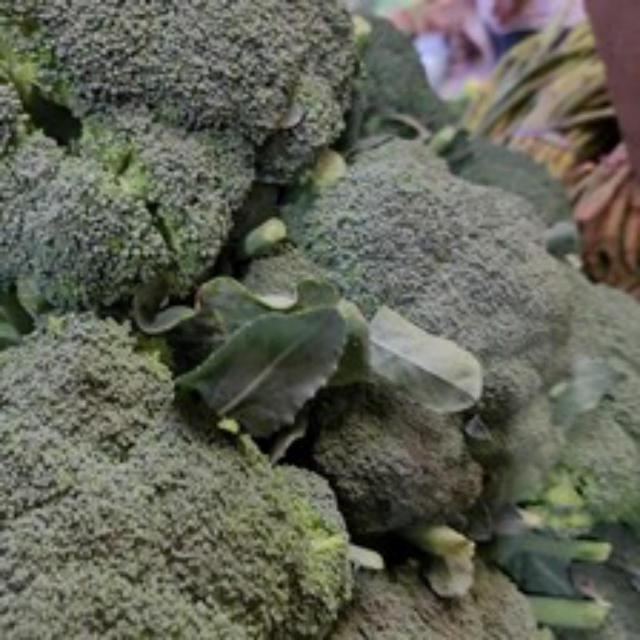broccoli: (0, 308, 371, 637)
